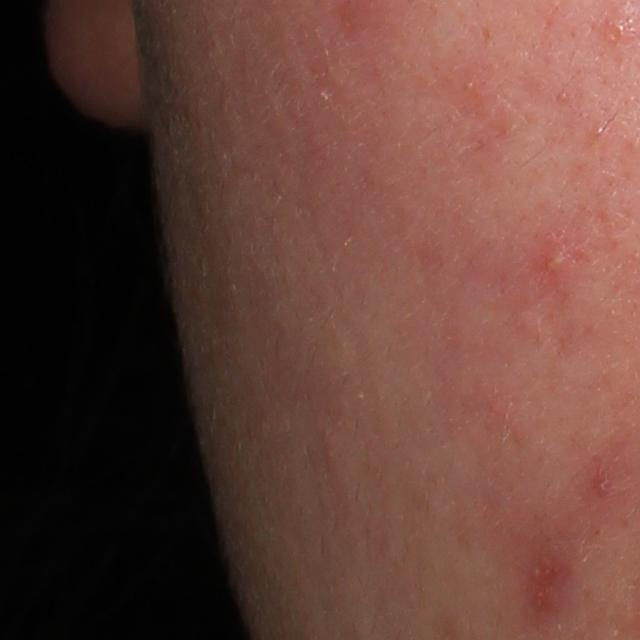papule: (524, 548, 565, 615), (608, 13, 634, 41)
pustule: (536, 243, 576, 287)
